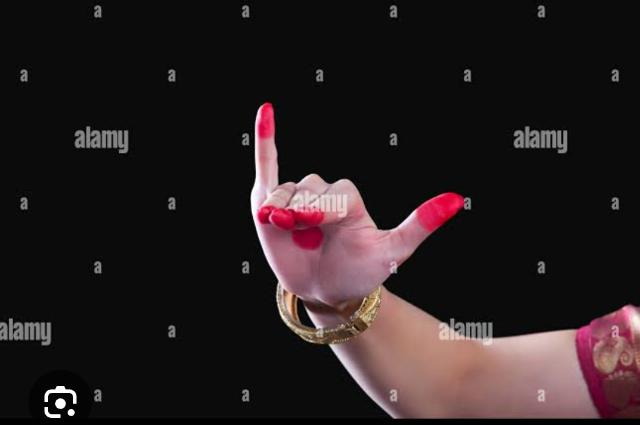mrighasheesh: (250, 106, 640, 419)
